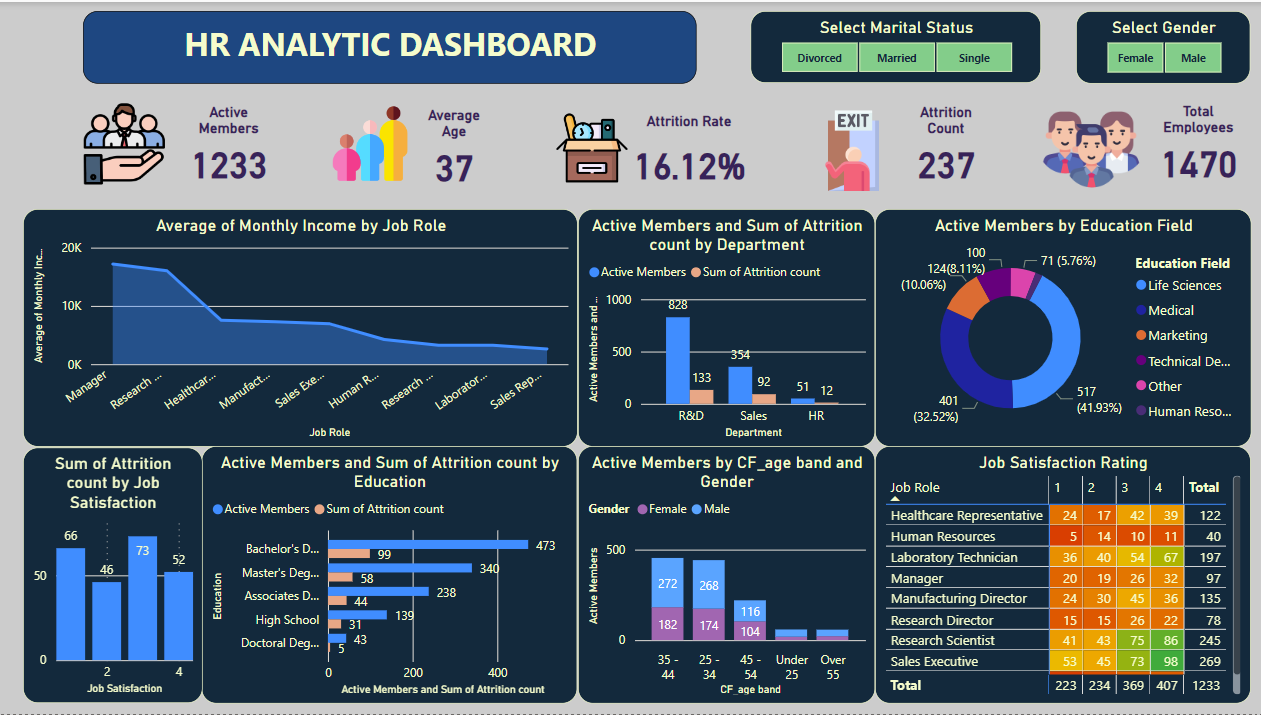

Layout of this report page (visuals, bound fields, positions):
{"tool":"powerbi","page":{"name":"Page 1","canvas":[1280,720],"ordinal":0},"visuals":[{"type":"card","title":"Average Age","fields":{"Values":["Avg(HR data.Age)"]},"box":[416.9,106.3,85.7,90.5],"z":0},{"type":"card","title":"Active Members","fields":{"Values":["Measure.Active Members"]},"box":[178.7,103.2,106.3,90.5],"z":1000},{"type":"card","title":"Attrition Rate","fields":{"Values":["Measure.Attrition rate"]},"box":[631.4,112.7,130.2,90.5],"z":2000},{"type":"card","title":"Attrition Count","fields":{"Values":["Sum(HR data.Attrition count)"]},"box":[912.5,103.2,85.7,90.5],"z":3000},{"type":"card","title":"Total Employees","fields":{"Values":["Sum(HR data.Employee Count)"]},"box":[1160.3,101.6,101.6,90.5],"z":4000},{"type":"clusteredColumnChart","fields":{"Category":["HR data.Department"],"Y":["Measure.Active Members","Sum(HR data.Attrition count)"]},"box":[583.8,209.2,300,240],"z":5000},{"type":"donutChart","fields":{"Y":["Measure.Active Members"],"Category":["HR data.Education Field"]},"box":[883.8,209.2,380,240],"z":6000},{"type":"columnChart","fields":{"Y":["Measure.Active Members"],"Category":["HR data.CF_age band"],"Series":["HR data.Gender"]},"box":[584.1,447.6,300,260.3],"z":7000},{"type":"pivotTable","title":"Job Satisfaction Rating","fields":{"Rows":["HR data.Job Role"],"Columns":["HR data.Job Satisfaction"],"Values":["Measure.Active Members"]},"box":[884.1,447.6,379.4,260.3],"z":8000},{"type":"areaChart","fields":{"Y":["Avg(HR data.Monthly Income)"],"Category":["HR data.Job Role"]},"box":[23.8,209.5,560.3,240],"z":9000},{"type":"clusteredBarChart","fields":{"Y":["Measure.Active Members","Sum(HR data.Attrition count)"],"Category":["HR data.Education"]},"box":[204.8,447.6,379.4,260.3],"z":11000},{"type":"slicer","title":"Select Marital Status","fields":{"Values":["HR data.Marital Status"]},"box":[758.9,9.7,293.5,73],"z":12000},{"type":"slicer","title":"Select Gender","fields":{"Values":["HR data.Gender"]},"box":[1087.3,9.5,176.2,73],"z":13000},{"type":"textbox","box":[84.1,9.5,619,73],"z":14000},{"type":"image","box":[1044.4,93.7,115.9,109.5],"z":15000},{"type":"image","box":[74.6,96.8,104.8,92.1],"z":16000},{"type":"image","box":[331.7,93.7,85.7,98.4],"z":17000},{"type":"image","box":[807.9,101.6,104.8,96.8],"z":18000},{"type":"image","box":[557.1,106.3,82.5,82.5],"z":19000},{"type":"columnChart","fields":{"Y":["Sum(HR data.Attrition count)"],"Category":["HR data.Job Satisfaction"]},"box":[24,450,181,258],"z":19001}]}

Visuals, with their boxes in screenshot pixels (x1, y1, x2, y2), scaled from the page's 1280x720 canvas onto the 1261x715 screenshot:
"Average Age" card: {"left": 411, "top": 106, "right": 495, "bottom": 195}
"Active Members" card: {"left": 176, "top": 102, "right": 281, "bottom": 192}
"Attrition Rate" card: {"left": 622, "top": 112, "right": 750, "bottom": 202}
"Attrition Count" card: {"left": 899, "top": 102, "right": 983, "bottom": 192}
"Total Employees" card: {"left": 1143, "top": 101, "right": 1243, "bottom": 191}
clusteredColumnChart - HR data.Department x Measure.Active Members: {"left": 575, "top": 208, "right": 871, "bottom": 446}
donutChart - Measure.Active Members x HR data.Education Field: {"left": 871, "top": 208, "right": 1245, "bottom": 446}
columnChart - Measure.Active Members x HR data.CF_age band: {"left": 575, "top": 444, "right": 871, "bottom": 703}
"Job Satisfaction Rating" pivotTable: {"left": 871, "top": 444, "right": 1245, "bottom": 703}
areaChart - Avg(HR data.Monthly Income) x HR data.Job Role: {"left": 23, "top": 208, "right": 575, "bottom": 446}
clusteredBarChart - Measure.Active Members x Sum(HR data.Attrition count): {"left": 202, "top": 444, "right": 576, "bottom": 703}
"Select Marital Status" slicer: {"left": 748, "top": 10, "right": 1037, "bottom": 82}
"Select Gender" slicer: {"left": 1071, "top": 9, "right": 1245, "bottom": 82}
textbox: {"left": 83, "top": 9, "right": 693, "bottom": 82}
image: {"left": 1029, "top": 93, "right": 1143, "bottom": 202}
image: {"left": 73, "top": 96, "right": 177, "bottom": 188}
image: {"left": 327, "top": 93, "right": 411, "bottom": 191}
image: {"left": 796, "top": 101, "right": 899, "bottom": 197}
image: {"left": 549, "top": 106, "right": 630, "bottom": 187}
columnChart - Sum(HR data.Attrition count) x HR data.Job Satisfaction: {"left": 24, "top": 447, "right": 202, "bottom": 703}
